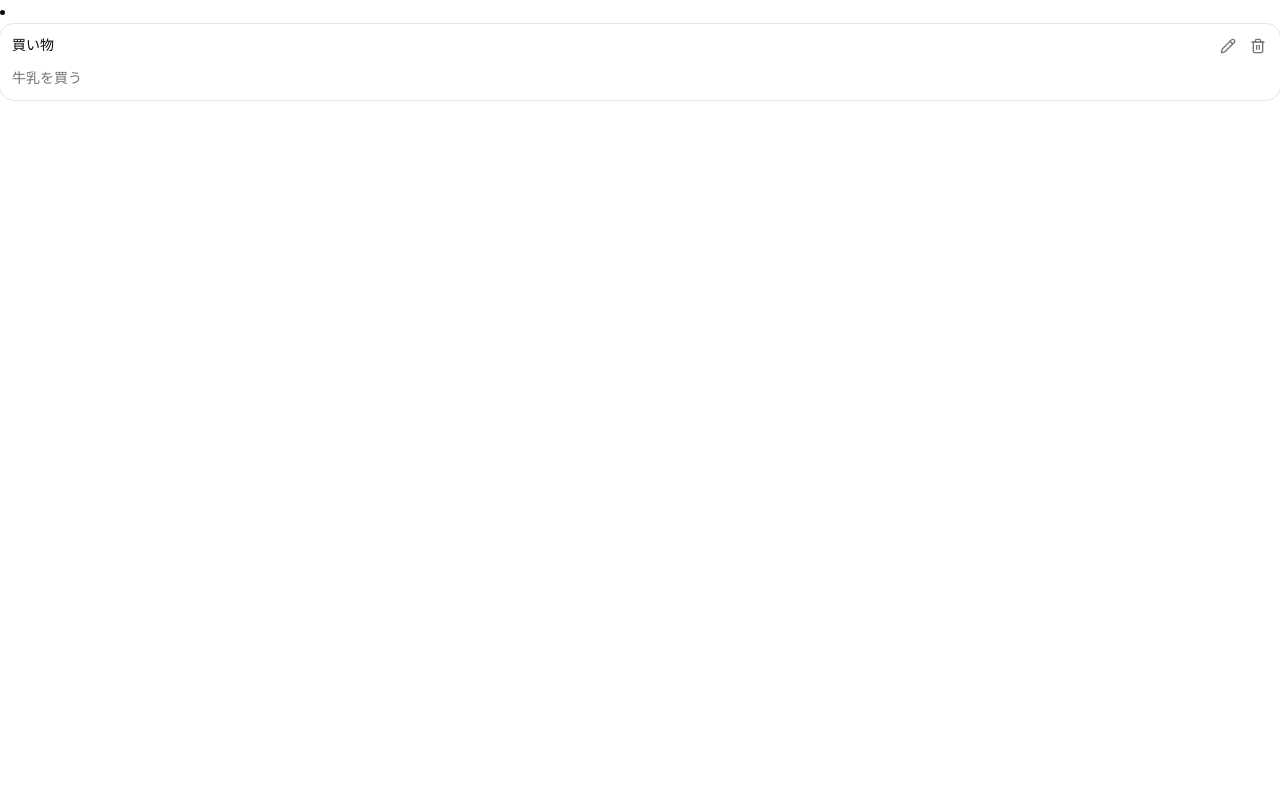
TaskCard 削除 › 削除がサーバーエラーになると、カードにエラーを表示する
This screenshot has width=1280, height=800.
Click the button named "「買い物」を削除": (1258, 46) [1244, 32, 1272, 60]
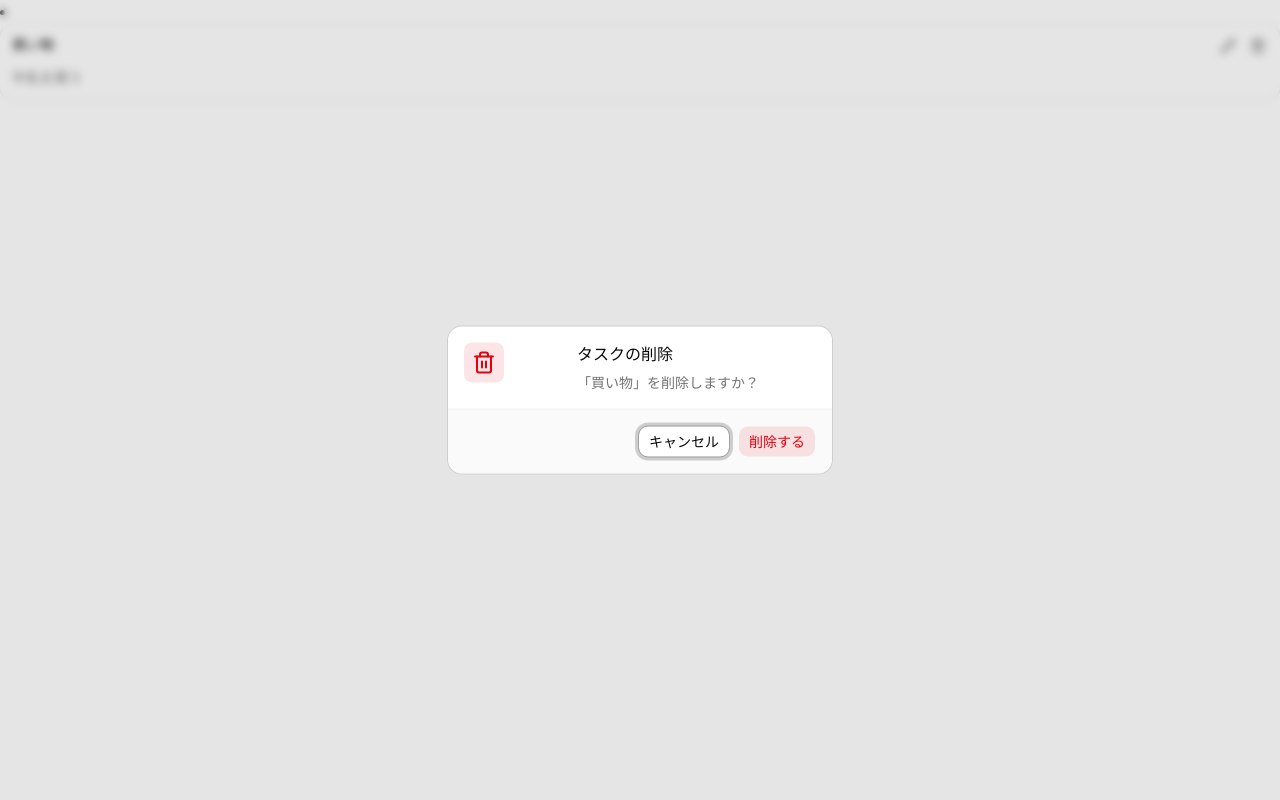
Click the button "削除する": (777, 442) [738, 426, 816, 458]
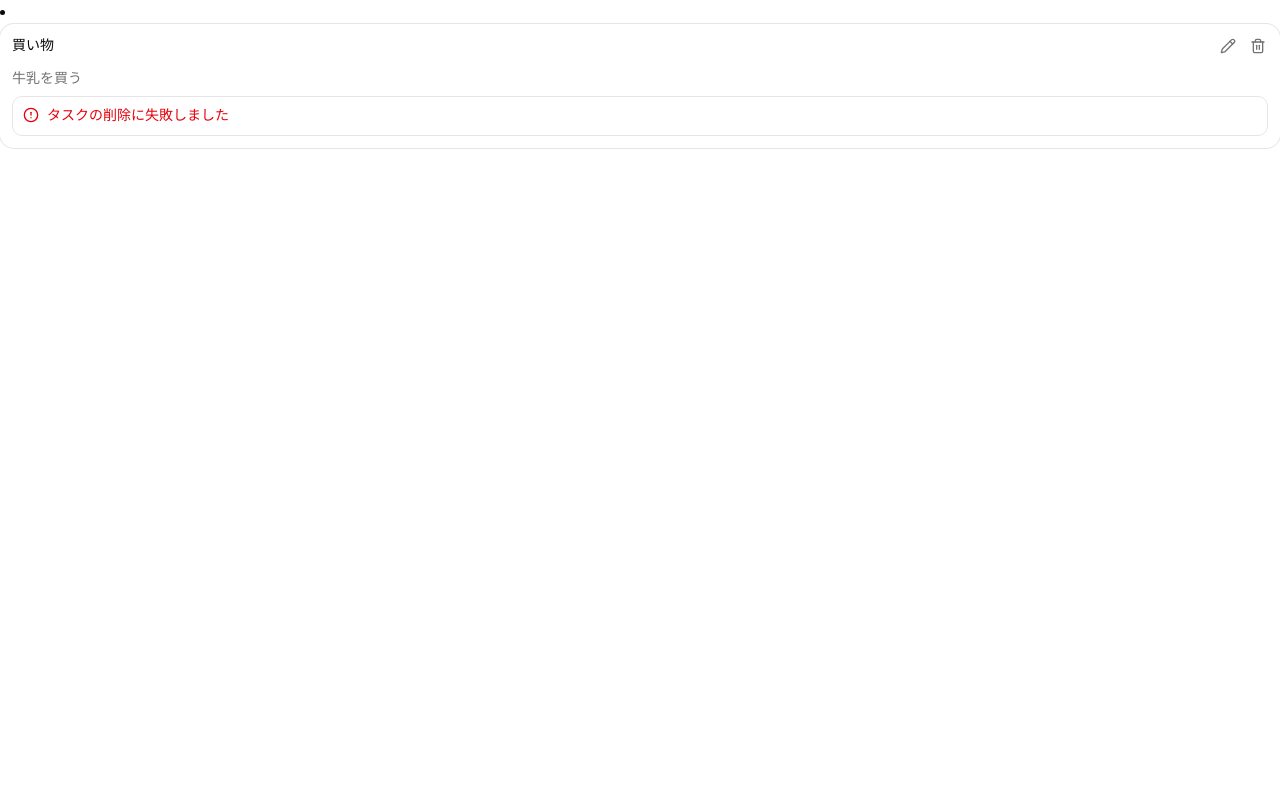
Expected: the message reads "タスクの削除に失敗しました", [47, 106, 229, 124]
